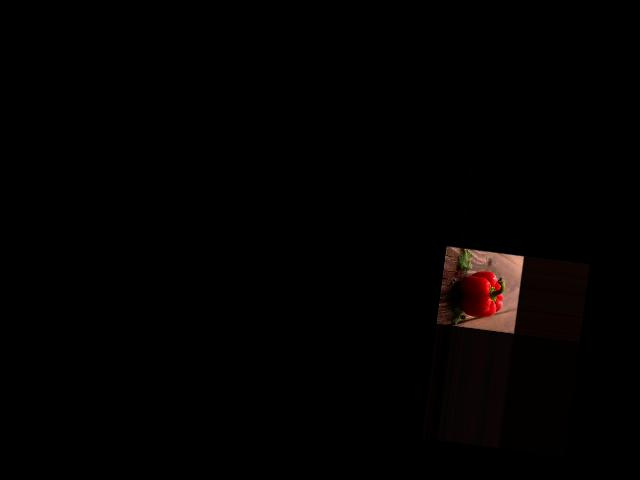bell_pepper: (454, 265, 510, 323)
